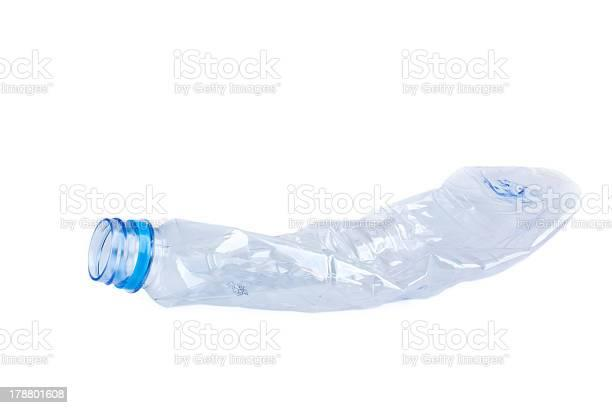plastic: (93, 168, 575, 314)
